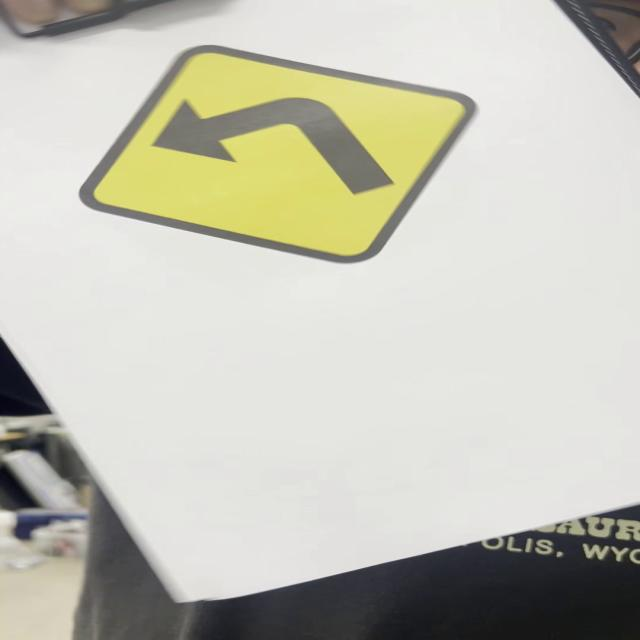left: (84, 47, 476, 265)
